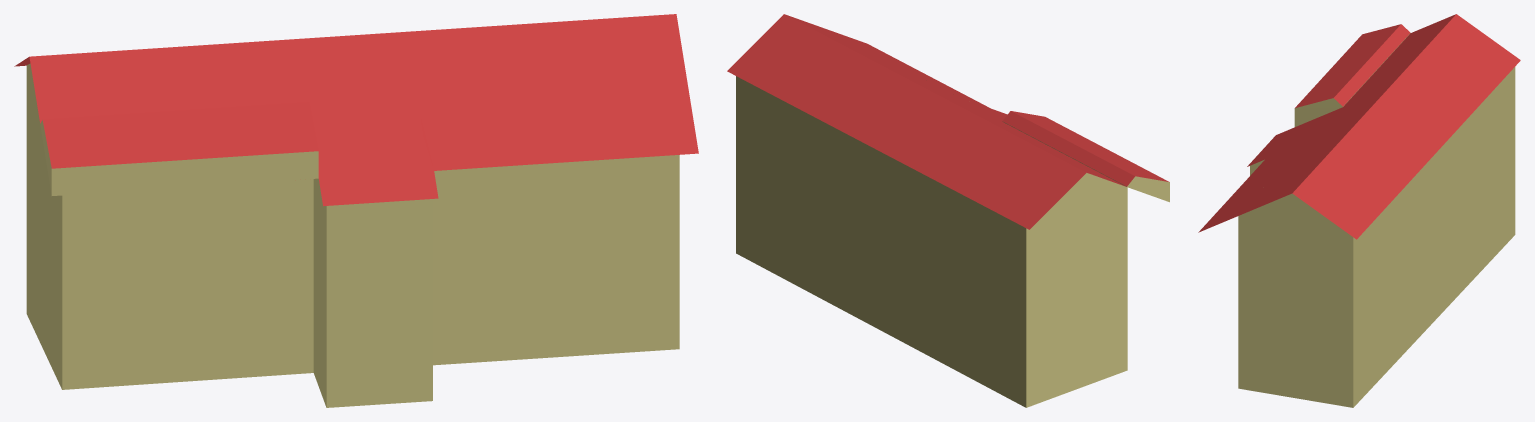
3 views of the same model, side by side, from view 1: azimuth 30°, elevation 25°; view 2: azimuth 150°, elevation 25°; view 3: azimuth 270°, elevation 25° (orthographic). The views are drawn at different scales.
Bounding box in the file's own units: 20.45 × 13.59 × 9.62.
